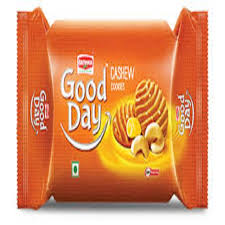gooday-medium: (11, 8, 212, 212)
